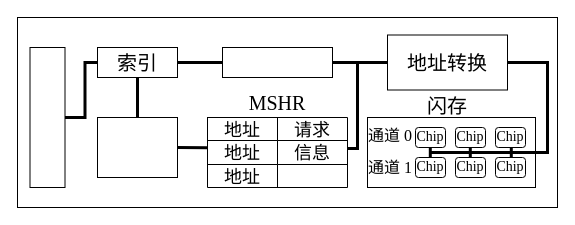
The diagram is 575 pixels wide and 225 high, and some of its shapes have lost their labels. Here are the shapes that lost their labels. From the top down, the centre of each, then its label:
point (277, 62): 预取
point (47, 117): CXL接口
point (137, 147): DRAM 缓存
